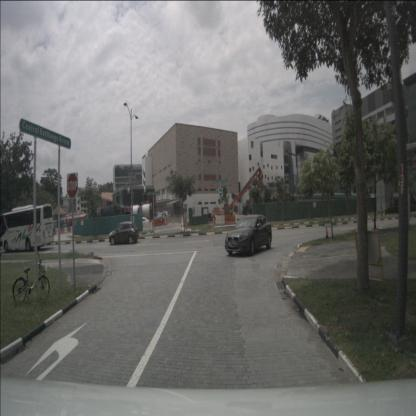barrier: (234, 214, 245, 224), (215, 215, 225, 224), (225, 216, 235, 224), (142, 223, 152, 230), (158, 218, 165, 226), (50, 228, 56, 236), (152, 219, 158, 226), (63, 227, 68, 233), (67, 227, 72, 232), (60, 228, 64, 234), (164, 217, 167, 225), (56, 228, 60, 234), (70, 227, 74, 232)
cone: (325, 227, 329, 239), (212, 223, 215, 230), (213, 217, 215, 224)
